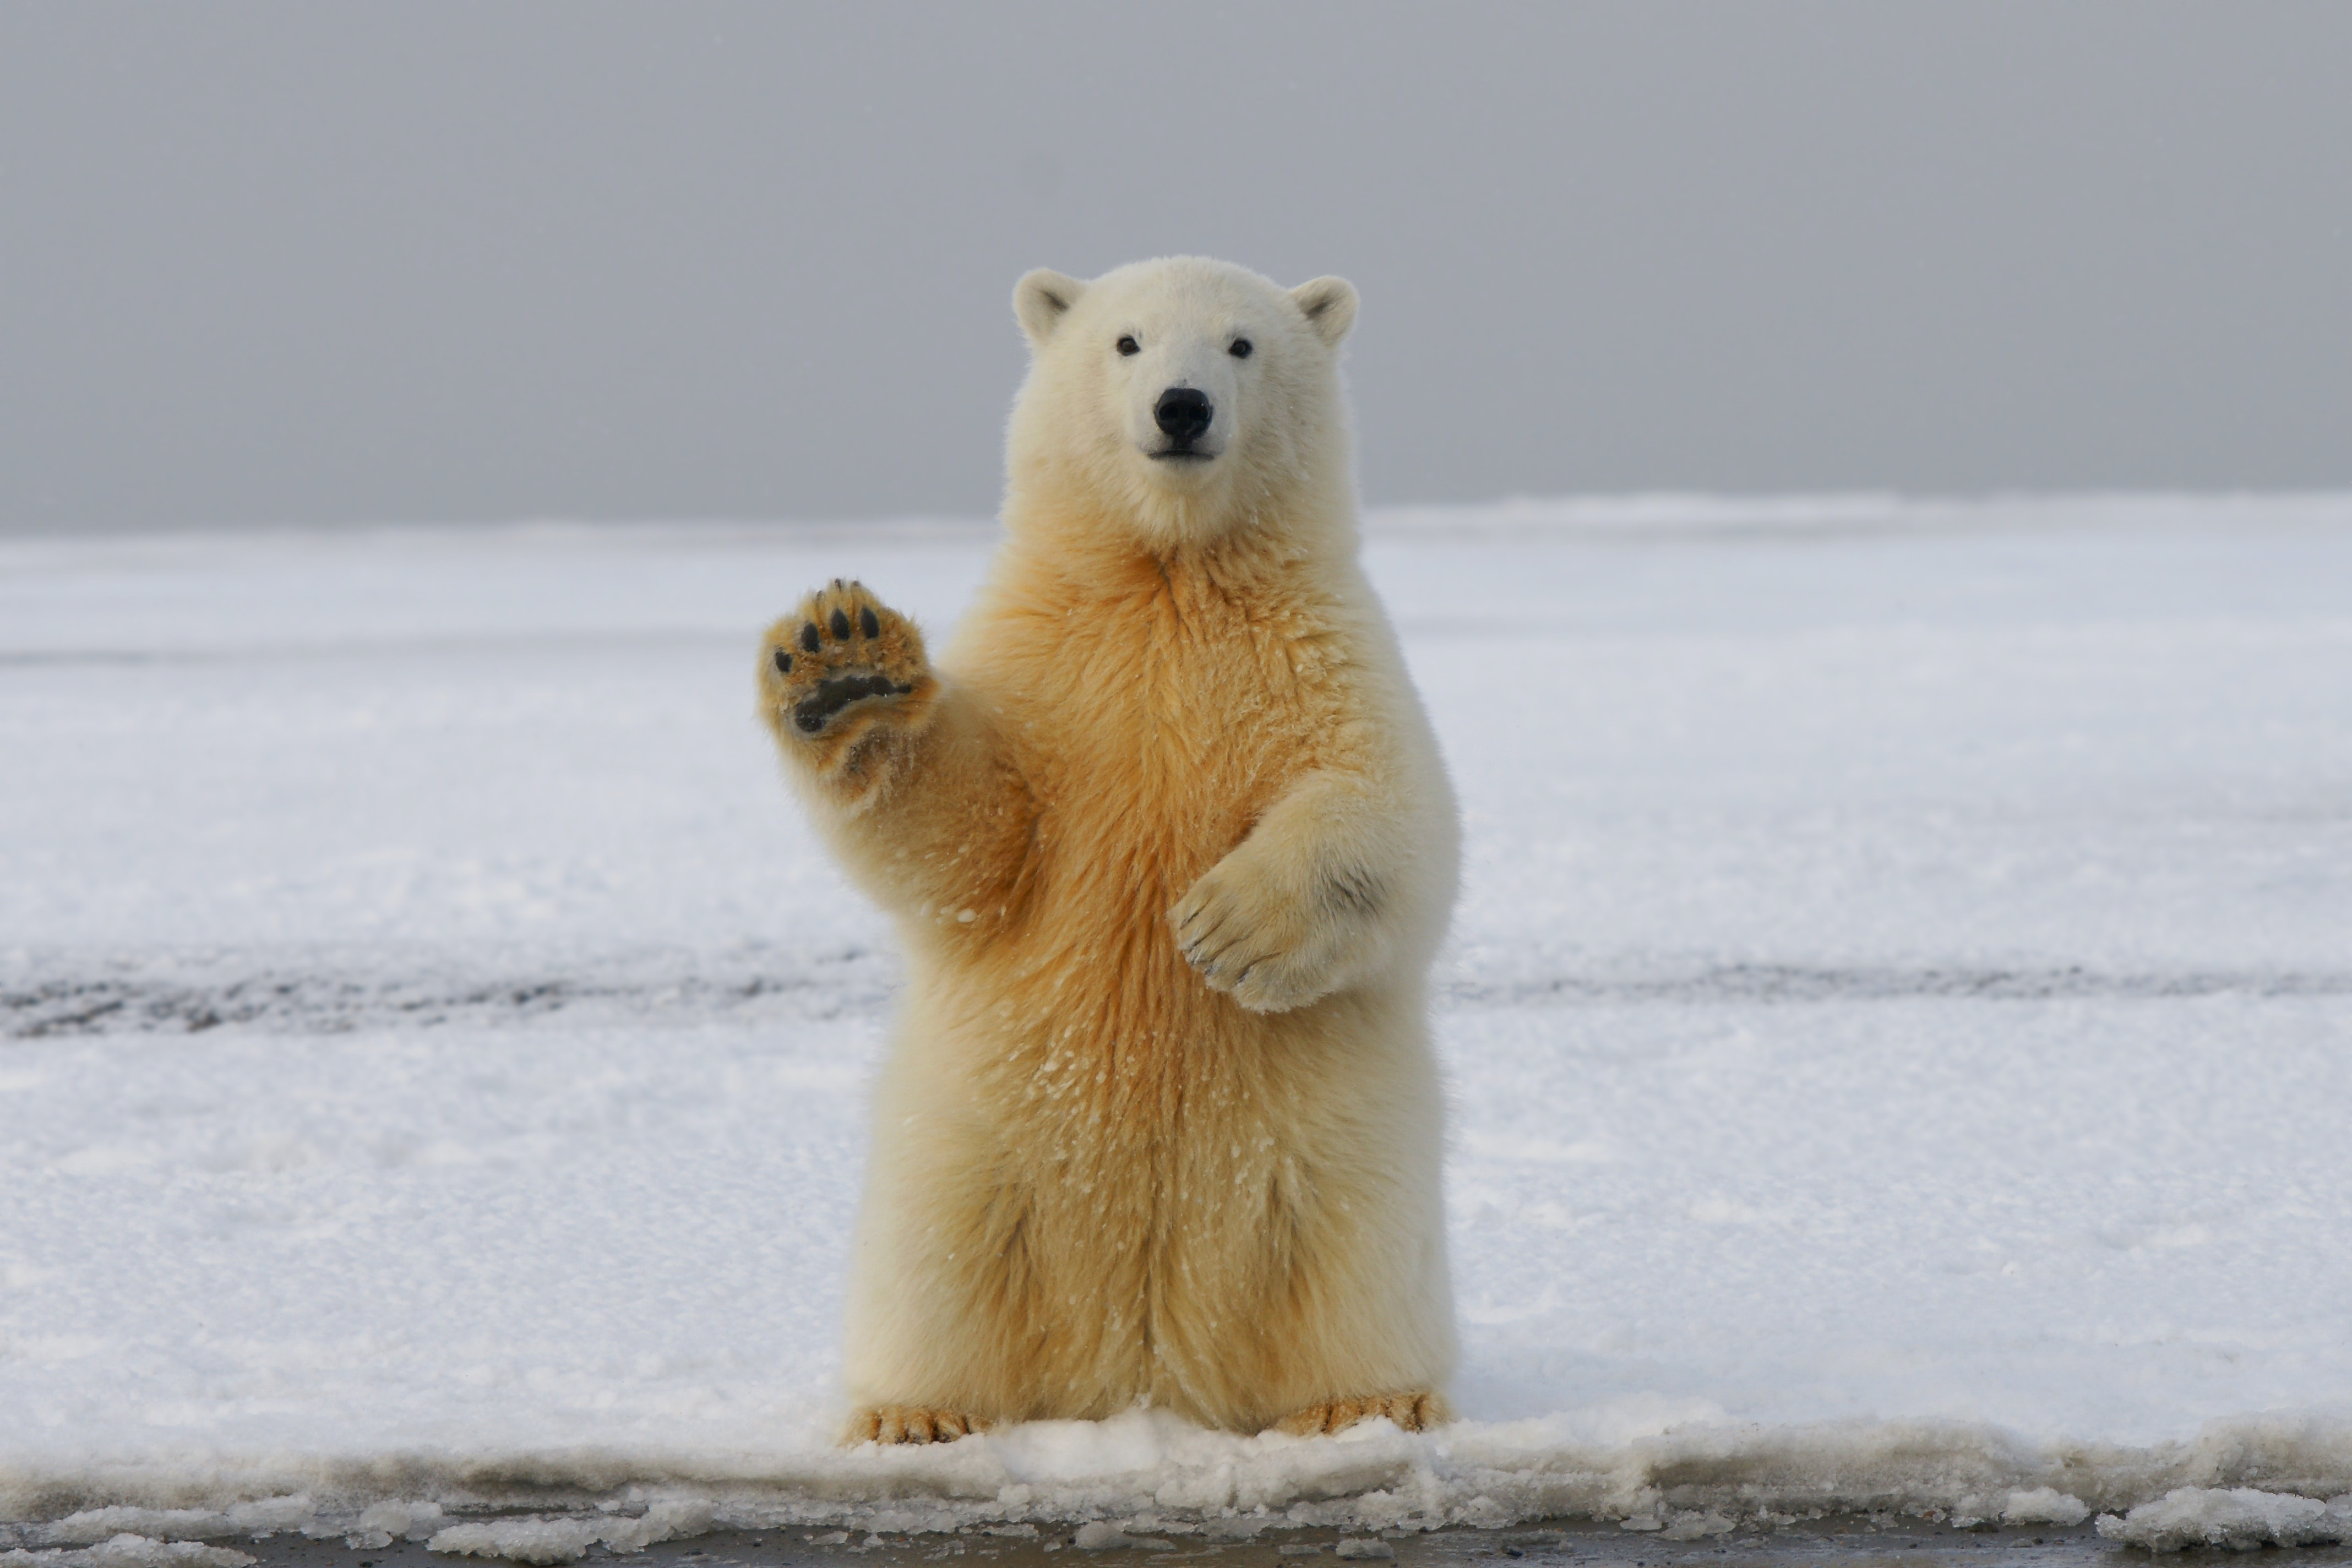PolarBear: (717, 205, 1543, 1487)
